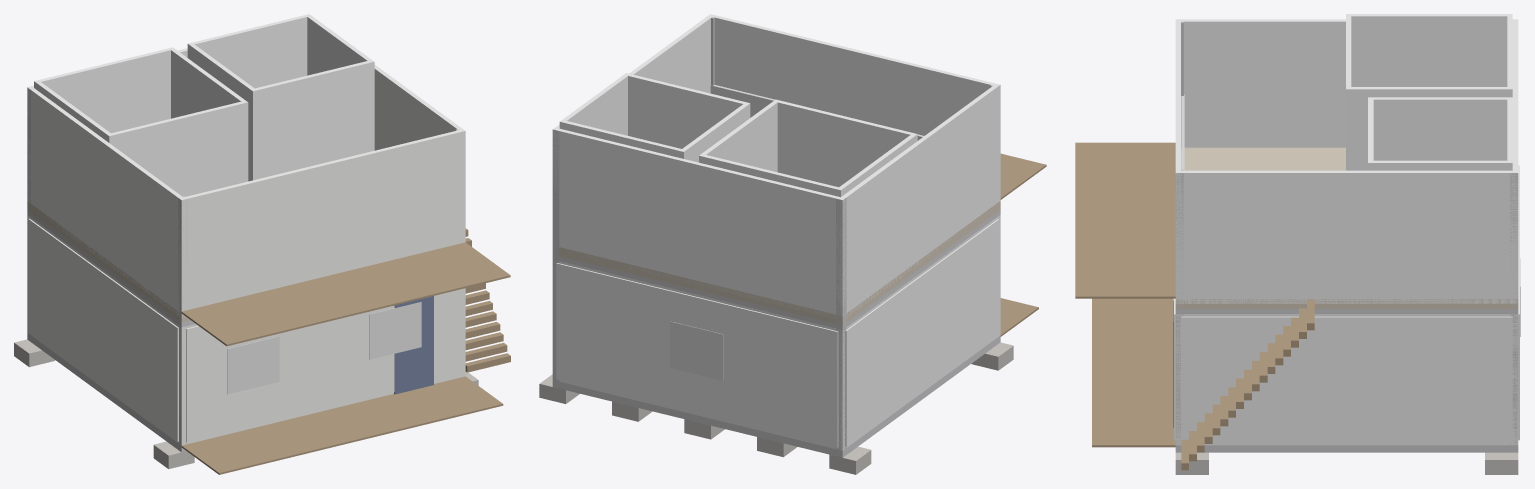
File: Duplex-20-Government-LOD0.glb
The picture shows the model from 3 angles, left to right: view 1: azimuth 30°, elevation 25°; view 2: azimuth 150°, elevation 25°; view 3: azimuth 270°, elevation 25°; orthographic projection. The views are drawn at different scales.
Parts seen in each view (by area): view 1: ExteriorShellUpper, ExteriorPanelsStandard, StudyUpper, BedroomUpper, BalconyUpper, BalconyGround, WindowsStandard, StaircaseExternal, ExteriorShell, EntryDoor, FoundationBlocks, FloorUpper (+3 smaller); view 2: ExteriorShellUpper, ExteriorPanelsStandard, BedroomUpper, StudyUpper, FloorUpper, VerticalStructure, FoundationBlocks, BaseFrame, ExteriorShell, WindowsStandard, TopFrame, BalconyUpper (+2 smaller); view 3: ExteriorShellUpper, ExteriorPanelsStandard, BalconyUpper, BedroomUpper, BalconyGround, StudyUpper, FloorUpper, StaircaseExternal, ExteriorShell, BaseFrame, VerticalStructure, TopFrame (+1 smaller).
Part boxes in pixels (x1,y1,x2,y2): ExteriorShellUpper: (27, 48, 465, 317); ExteriorPanelsStandard: (28, 218, 461, 442); StudyUpper: (187, 14, 374, 181); BedroomUpper: (34, 47, 248, 196); BalconyUpper: (181, 242, 510, 346); BalconyGround: (181, 376, 503, 474); WindowsStandard: (227, 302, 421, 394); StaircaseExternal: (465, 228, 510, 372); ExteriorShell: (27, 215, 465, 445); EntryDoor: (394, 296, 433, 394); FoundationBlocks: (14, 339, 478, 469); FloorUpper: (27, 201, 190, 322); ExteriorShellUpper: (552, 14, 1000, 318); ExteriorPanelsStandard: (556, 219, 999, 447); BedroomUpper: (699, 99, 917, 197); StudyUpper: (559, 73, 750, 162); FloorUpper: (558, 201, 1000, 325); VerticalStructure: (552, 17, 998, 449); FoundationBlocks: (539, 342, 1013, 474); BaseFrame: (552, 335, 1000, 457); ExteriorShell: (556, 215, 1000, 450); WindowsStandard: (670, 321, 723, 380); TopFrame: (555, 210, 1000, 329); BalconyUpper: (1000, 153, 1046, 199); ExteriorShellUpper: (1175, 19, 1518, 303); ExteriorPanelsStandard: (1174, 165, 1519, 443); BalconyUpper: (1075, 142, 1175, 298); BedroomUpper: (1346, 14, 1512, 170); BalconyGround: (1092, 298, 1175, 447); StudyUpper: (1368, 97, 1512, 170); FloorUpper: (1175, 147, 1518, 308); StaircaseExternal: (1181, 299, 1314, 470); ExteriorShell: (1175, 314, 1518, 445); BaseFrame: (1175, 445, 1518, 452); VerticalStructure: (1175, 21, 1518, 445); TopFrame: (1175, 309, 1518, 313).
Size of the model in its own units: 7.94 by 6 by 8.
